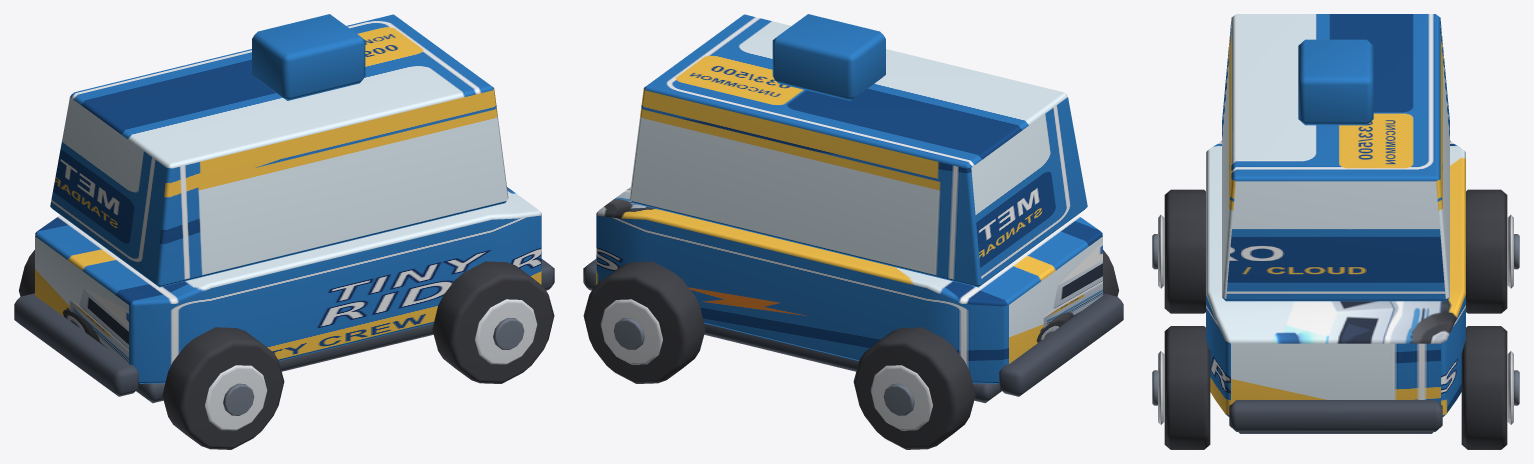
3 views of the same model, side by side, from view 1: azimuth 30°, elevation 25°; view 2: azimuth 150°, elevation 25°; view 3: azimuth 270°, elevation 25° (orthographic). The views are drawn at different scales.
Parts seen in each view (by area): view 1: CC-04_cabin, CC-04_connected_shell, Tire, Tire.002, roof sign, front bumper, Rim, Rim.002, underbody, Hub, Hub.002; view 2: CC-04_cabin, CC-04_connected_shell, Tire.001, Tire.003, roof sign, front bumper, Rim.001, Rim.003, underbody, Hub.001, Hub.003; view 3: CC-04_cabin, CC-04_connected_shell, rear bumper, roof sign, Tire.002, Tire.003, Tire, Tire.001, Rim, Rim.001, Rim.002, Rim.003 (+1 smaller).
Boxes of the visible parts, x1,y1,x2,y2 form: CC-04_cabin: (50, 14, 508, 287); CC-04_connected_shell: (35, 187, 541, 383); Tire: (162, 327, 284, 449); Tire.002: (432, 261, 554, 383); roof sign: (252, 14, 365, 100); front bumper: (14, 293, 139, 396); Rim: (205, 365, 267, 430); Rim.002: (475, 299, 537, 364); underbody: (136, 323, 433, 403); Hub: (223, 383, 254, 415); Hub.002: (493, 318, 524, 349); CC-04_cabin: (629, 14, 1087, 287); CC-04_connected_shell: (596, 187, 1102, 383); Tire.001: (853, 327, 975, 449); Tire.003: (583, 261, 705, 383); roof sign: (772, 14, 885, 100); front bumper: (998, 293, 1123, 396); Rim.001: (870, 365, 932, 430); Rim.003: (600, 299, 662, 364); underbody: (704, 323, 1001, 403); Hub.001: (883, 383, 914, 415); Hub.003: (613, 318, 644, 349); CC-04_cabin: (1222, 14, 1449, 301); CC-04_connected_shell: (1206, 141, 1465, 416); rear bumper: (1229, 400, 1442, 431); roof sign: (1298, 39, 1373, 125); Tire.002: (1164, 326, 1210, 449); Tire.003: (1461, 326, 1507, 449); Tire: (1164, 189, 1205, 313); Tire.001: (1466, 189, 1507, 313); Rim: (1158, 215, 1164, 288); Rim.001: (1507, 215, 1513, 288); Rim.002: (1158, 351, 1164, 424); Rim.003: (1507, 351, 1513, 424).
Bounding box in the file's own units: 301 × 208 × 209.
